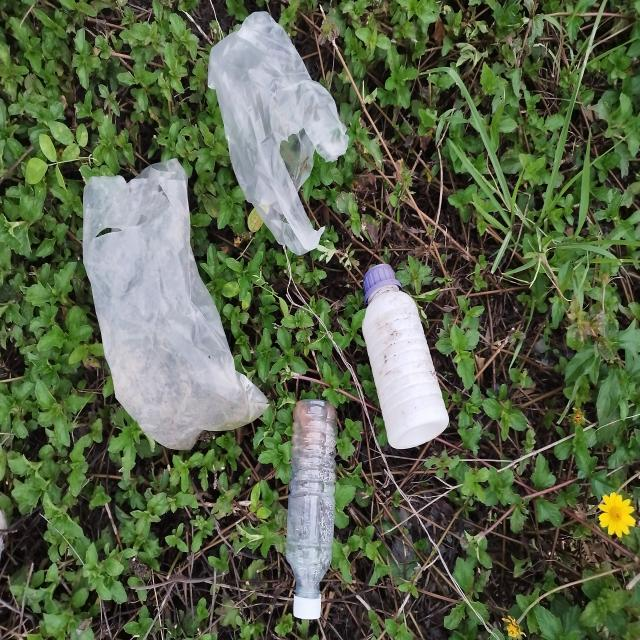bag: (82, 158, 269, 451), (208, 11, 350, 254)
bottle: (363, 265, 449, 448), (286, 398, 337, 620)
